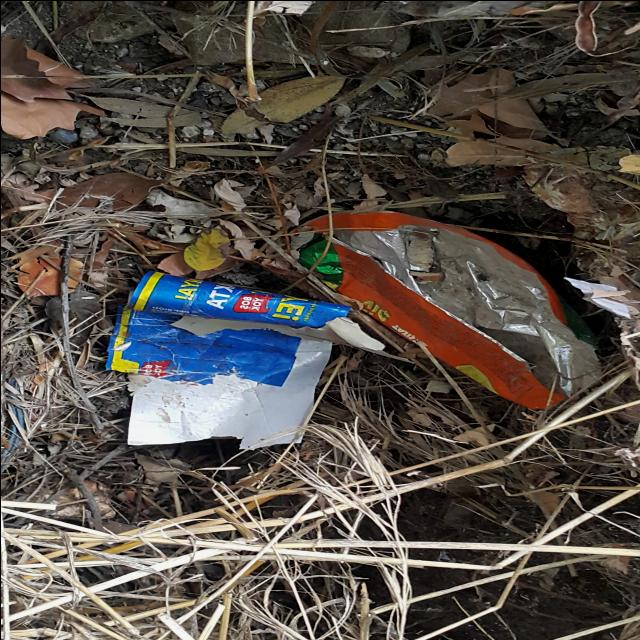Crisp packet: (288, 209, 604, 409)
Other plastic: (105, 270, 411, 449)
